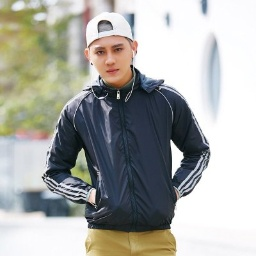face: (86, 21, 140, 87)
